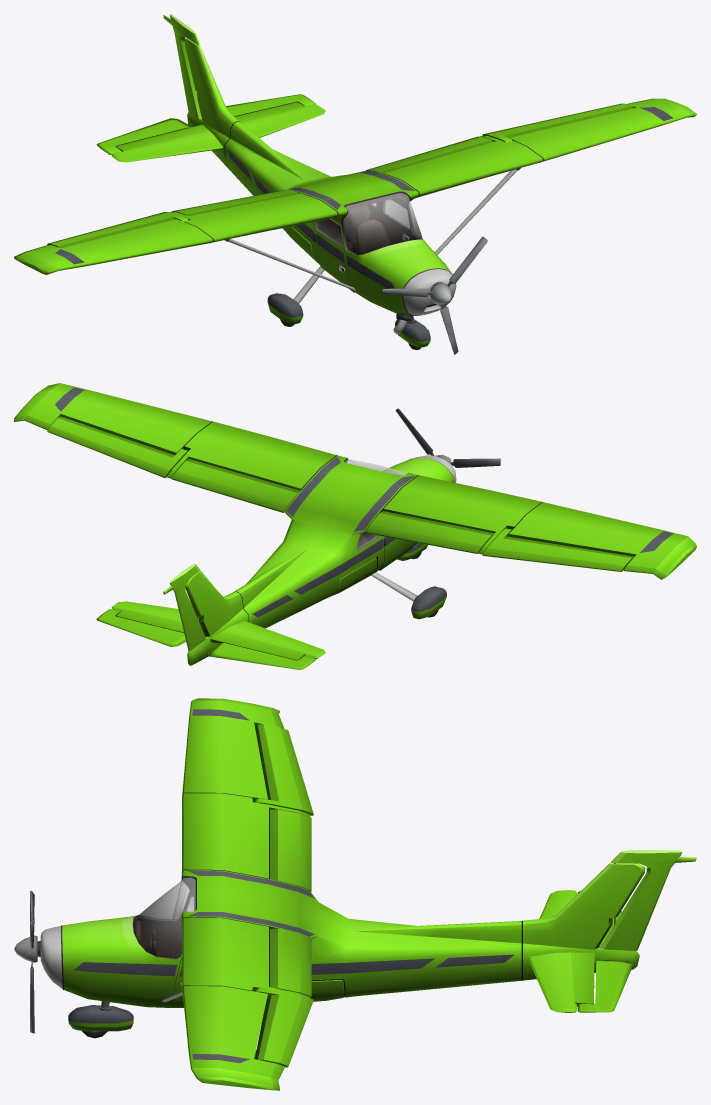
3 views of the same model, one above another, from view 1: azimuth 30°, elevation 25°; view 2: azimuth 150°, elevation 25°; view 3: azimuth 270°, elevation 25° (orthographic). The views are drawn at different scales.
Parts seen in each view (by area): view 1: TP_Plane_03A_Fuselage, TP_Plane_03A_Door.R, TP_Plane_03A_Propeller, TP_Plane_03A_Aileron.L, TP_Plane_03A_Rudder, TP_Plane_03A_Aileron.R, TP_Plane_03A_Elevator.R, TP_Plane_03A_Flap.L, TP_Plane_03A_Door.L, TP_Plane_03A_Flap.R, TP_Plane_03A_Elevator.L; view 2: TP_Plane_03A_Fuselage, TP_Plane_03A_Flap.L, TP_Plane_03A_Aileron.L, TP_Plane_03A_Aileron.R, TP_Plane_03A_Flap.R, TP_Plane_03A_Rudder, TP_Plane_03A_Elevator.R, TP_Plane_03A_Elevator.L, TP_Plane_03A_Propeller, TP_Plane_03A_Door.R; view 3: TP_Plane_03A_Fuselage, TP_Plane_03A_Rudder, TP_Plane_03A_Aileron.R, TP_Plane_03A_Flap.R, TP_Plane_03A_Aileron.L, TP_Plane_03A_Flap.L, TP_Plane_03A_Elevator.L, TP_Plane_03A_Propeller.
Boxes of the visible parts, x1=… form: TP_Plane_03A_Fuselage: x1=14, y1=38, x2=696, y2=347; TP_Plane_03A_Door.R: x1=314, y1=218, x2=354, y2=292; TP_Plane_03A_Propeller: x1=380, y1=236, x2=487, y2=354; TP_Plane_03A_Aileron.L: x1=482, y1=103, x2=633, y2=142; TP_Plane_03A_Rudder: x1=163, y1=14, x2=201, y2=119; TP_Plane_03A_Aileron.R: x1=47, y1=212, x2=188, y2=247; TP_Plane_03A_Elevator.R: x1=96, y1=118, x2=191, y2=154; TP_Plane_03A_Flap.L: x1=365, y1=136, x2=493, y2=173; TP_Plane_03A_Door.L: x1=382, y1=199, x2=411, y2=244; TP_Plane_03A_Flap.R: x1=171, y1=189, x2=299, y2=216; TP_Plane_03A_Elevator.L: x1=226, y1=94, x2=315, y2=116; TP_Plane_03A_Fuselage: x1=14, y1=383, x2=696, y2=665; TP_Plane_03A_Flap.L: x1=171, y1=459, x2=300, y2=512; TP_Plane_03A_Aileron.L: x1=47, y1=416, x2=188, y2=477; TP_Plane_03A_Aileron.R: x1=482, y1=528, x2=633, y2=571; TP_Plane_03A_Flap.R: x1=365, y1=511, x2=494, y2=553; TP_Plane_03A_Rudder: x1=163, y1=564, x2=206, y2=650; TP_Plane_03A_Elevator.R: x1=207, y1=643, x2=315, y2=669; TP_Plane_03A_Elevator.L: x1=96, y1=608, x2=185, y2=646; TP_Plane_03A_Propeller: x1=395, y1=408, x2=500, y2=467; TP_Plane_03A_Door.R: x1=379, y1=536, x2=415, y2=570; TP_Plane_03A_Fuselage: x1=40, y1=698, x2=645, y2=1090; TP_Plane_03A_Rudder: x1=600, y1=850, x2=696, y2=950; TP_Plane_03A_Aileron.R: x1=255, y1=724, x2=313, y2=815; TP_Plane_03A_Flap.R: x1=269, y1=809, x2=311, y2=891; TP_Plane_03A_Aileron.L: x1=255, y1=988, x2=313, y2=1067; TP_Plane_03A_Flap.L: x1=269, y1=928, x2=311, y2=997; TP_Plane_03A_Elevator.L: x1=577, y1=959, x2=633, y2=1012; TP_Plane_03A_Propeller: x1=14, y1=890, x2=40, y2=1033.
Bounding box in the file's own units: 14.12 × 3.23 × 10.69.
Materials: 2 (2 with a texture image).
